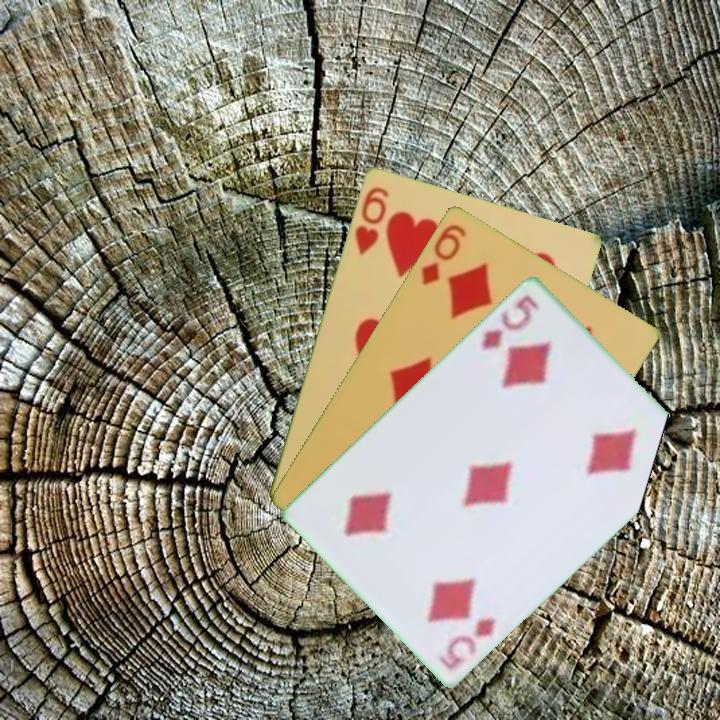5d: (477, 290, 543, 353), (436, 613, 499, 672)
6d: (417, 220, 469, 288)
6h: (351, 182, 391, 258)
